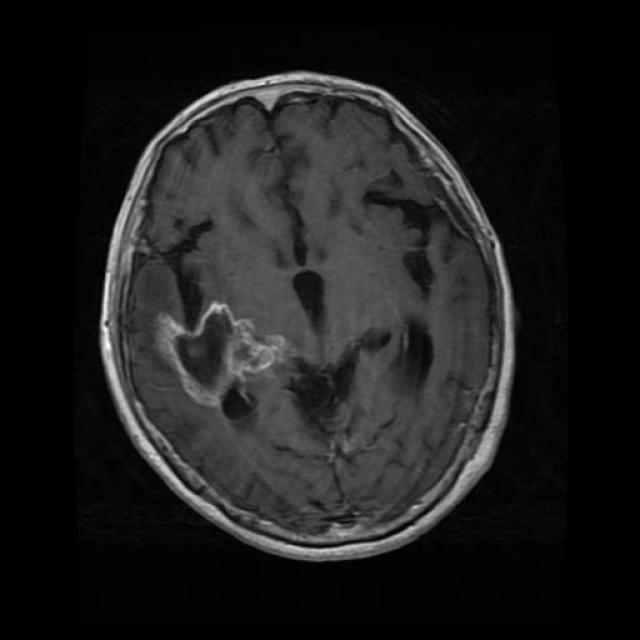brain_tumor: (156, 302, 285, 407)
